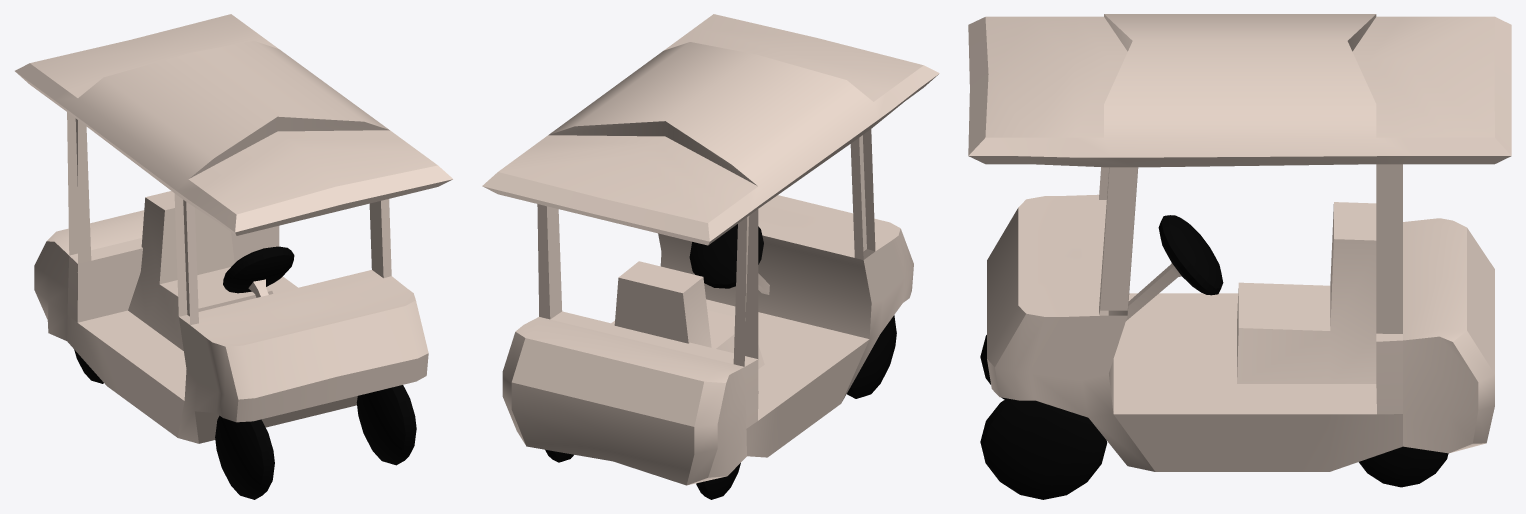
Rendered from Coche.fbx.
3 views of the same model, side by side, from view 1: azimuth 30°, elevation 25°; view 2: azimuth 150°, elevation 25°; view 3: azimuth 270°, elevation 25° (orthographic). The views are drawn at different scales.
Visible parts, largest first — view 1: Cube, Cube.003, Cube.002; view 2: Cube, Cube.003, Cube.004; view 3: Cube, Cube.002, Cube.001.
Part boxes in pixels (bbox=[...]): Cube: bbox=[15, 14, 453, 443]; Cube.003: bbox=[215, 415, 274, 499]; Cube.002: bbox=[356, 385, 416, 465]; Cube: bbox=[482, 14, 939, 485]; Cube.003: bbox=[847, 315, 896, 398]; Cube.004: bbox=[696, 463, 740, 499]; Cube: bbox=[968, 14, 1511, 471]; Cube.002: bbox=[980, 398, 1107, 499]; Cube.001: bbox=[1359, 446, 1448, 487].
Size of the model in its own units: 1.48 by 2.18 by 2.58.
